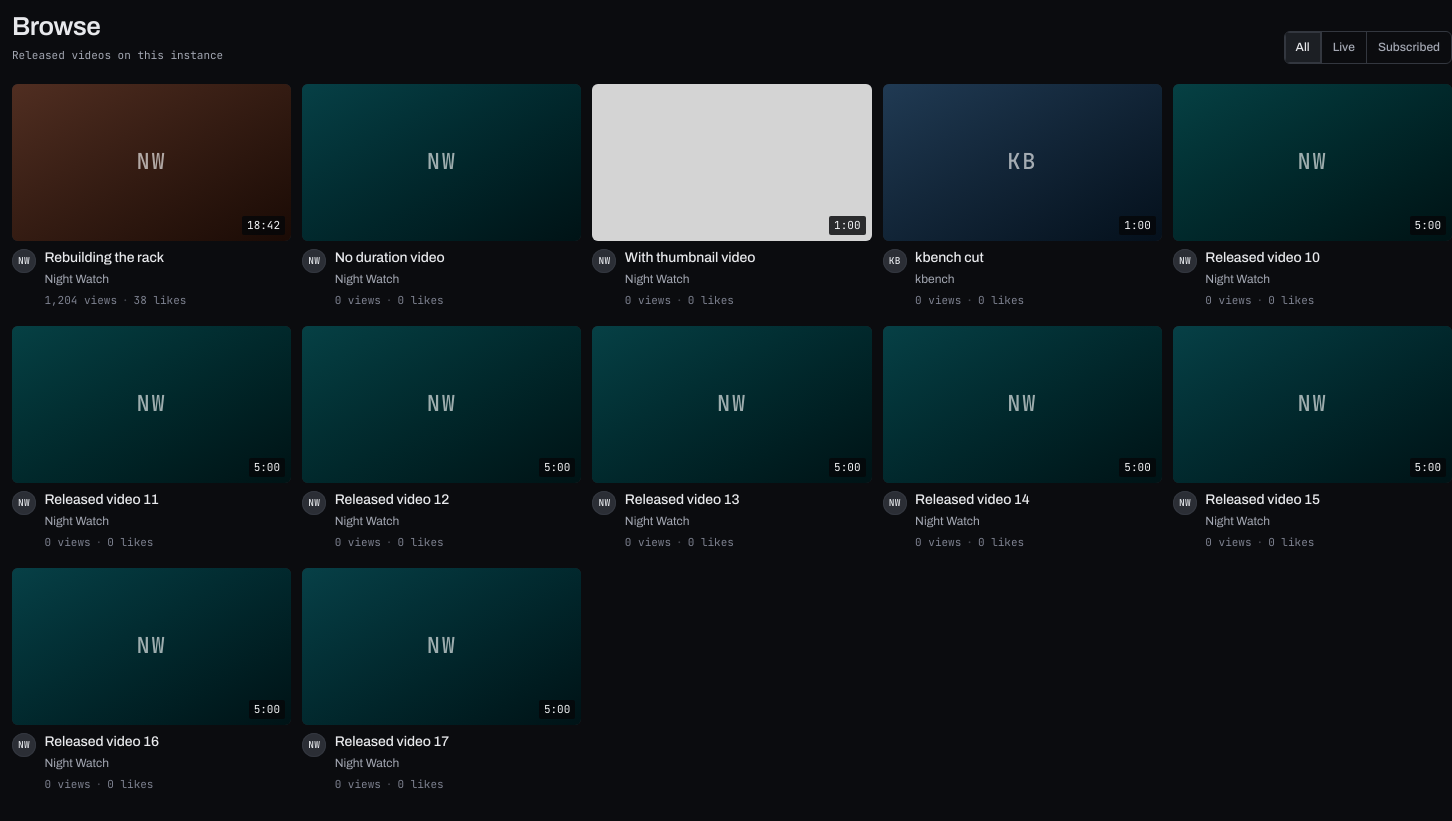
Test: Browse screen › live filter sends type=live and renders live cards with the LIVE pill
Expected: the text "Released video 10" is shown, x1=1205 y1=250 x2=1320 y2=265
Click the radio button labelled "Live". click: (1343, 47)
box: x1=1321 y1=32 x2=1366 y2=63
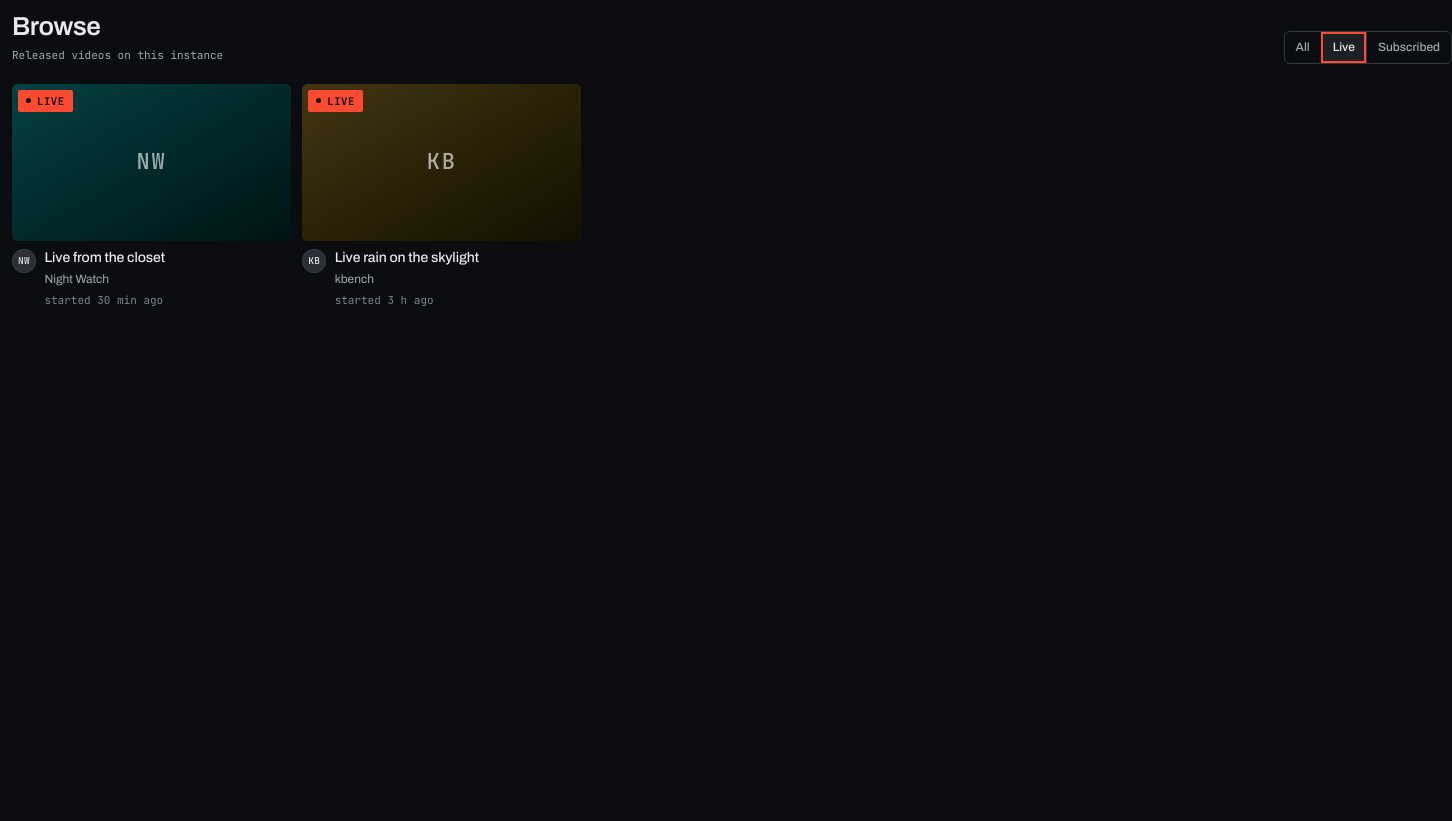
Result: the text "Live from the closet" is shown at x1=44 y1=250 x2=165 y2=265
Result: the link "Released video 10" is gone
Result: the 1st text "Live" is shown at x1=18 y1=90 x2=73 y2=112
